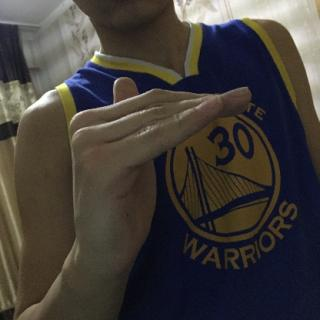KHAA: (61, 72, 261, 288)
